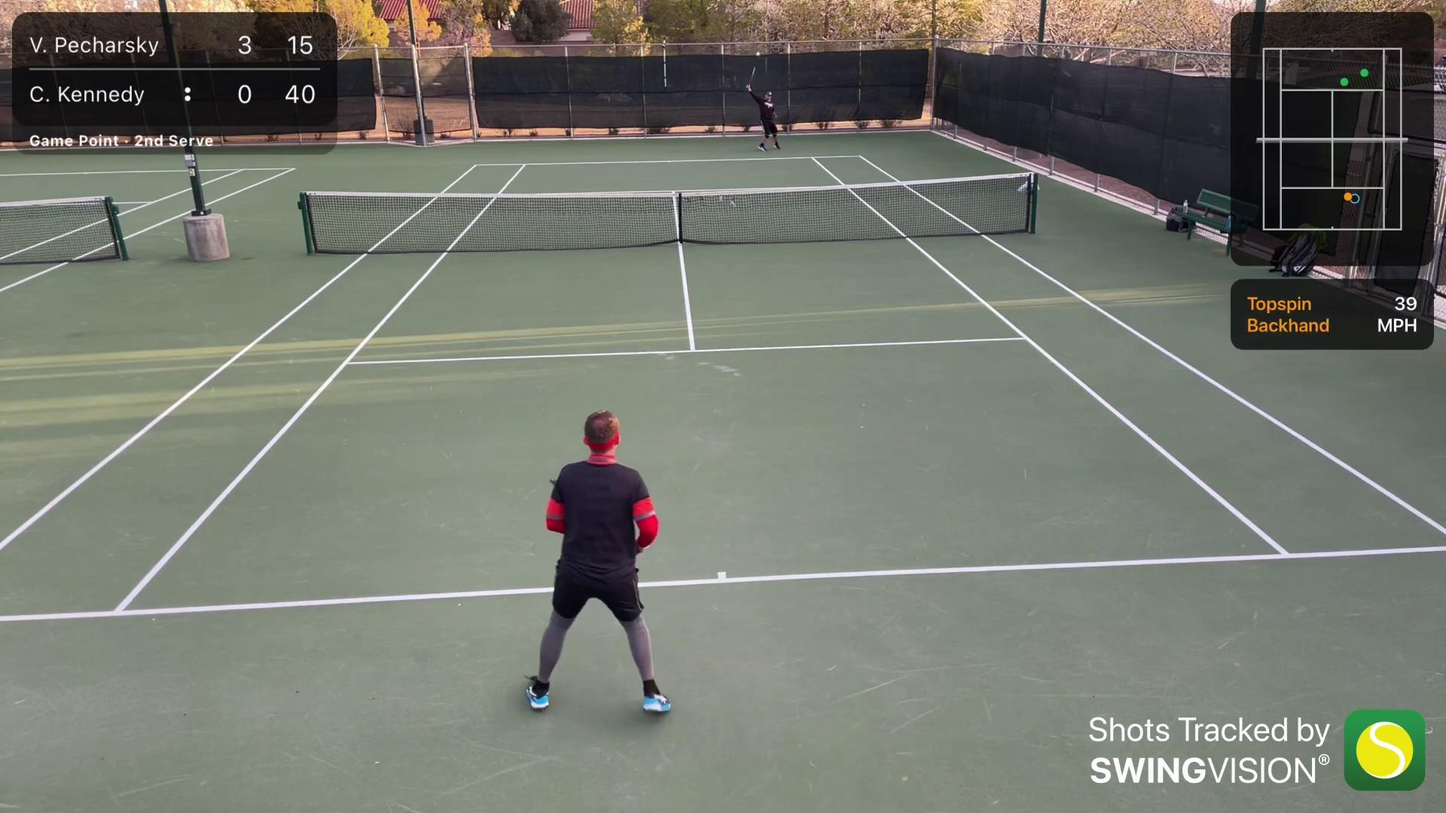ball: (755, 51, 761, 56)
